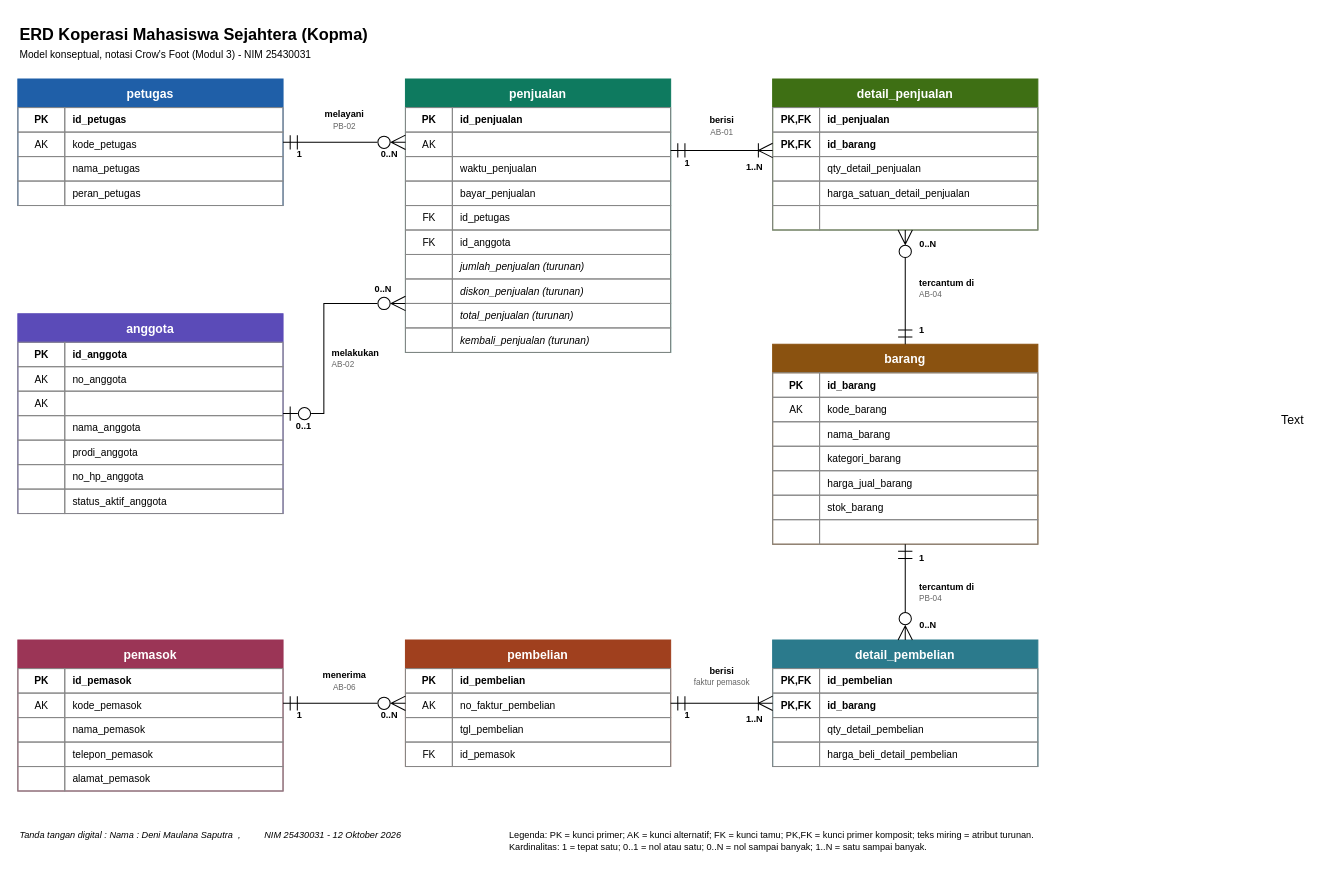
This 1341x889 diagram has some shape labels left out. The shapes that lost their labels are listed below. From the top down, each one's centre as x and y in pixels, then its label:
point (561, 144): no_nota_penjualan
point (928, 217): subtotal_detail_penjualan (turunan)
point (173, 403): nim_anggota
point (928, 531): batas_min_stok_barang
